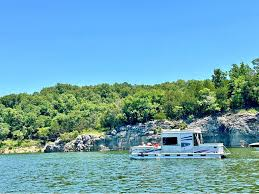boat: (130, 127, 230, 161)
